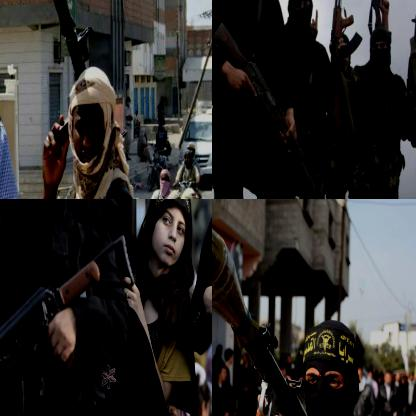rifle: (212, 199, 315, 415), (0, 230, 137, 377), (212, 17, 322, 195), (24, 0, 96, 138), (327, 0, 364, 139), (397, 6, 415, 140), (364, 0, 400, 48)
